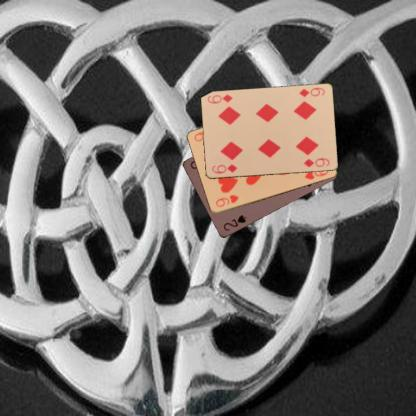2s: (221, 212, 247, 232)
6d: (296, 85, 326, 99), (209, 162, 238, 175)
9h: (213, 192, 240, 209)
